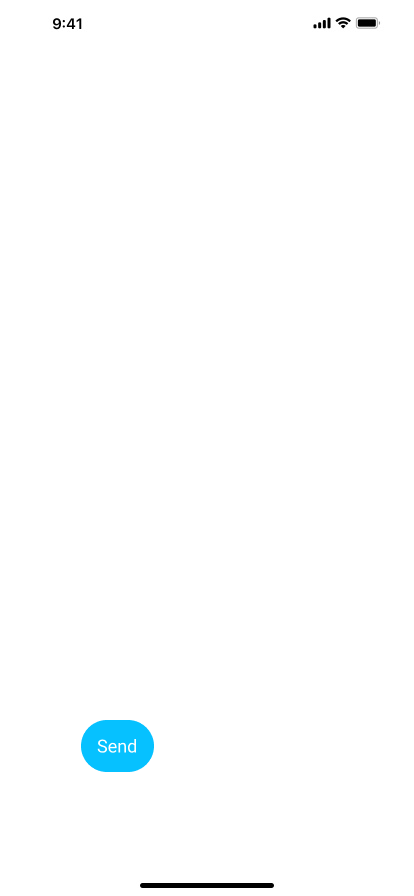Buttons: (81, 720, 154, 772)
Home Indicator: (0, 862, 414, 896)
Status Bar: (0, 0, 414, 44)
